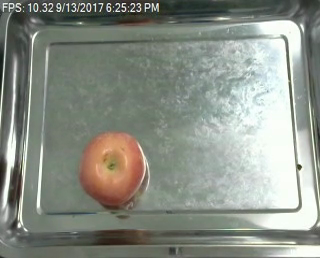Apple: (77, 129, 145, 209)
